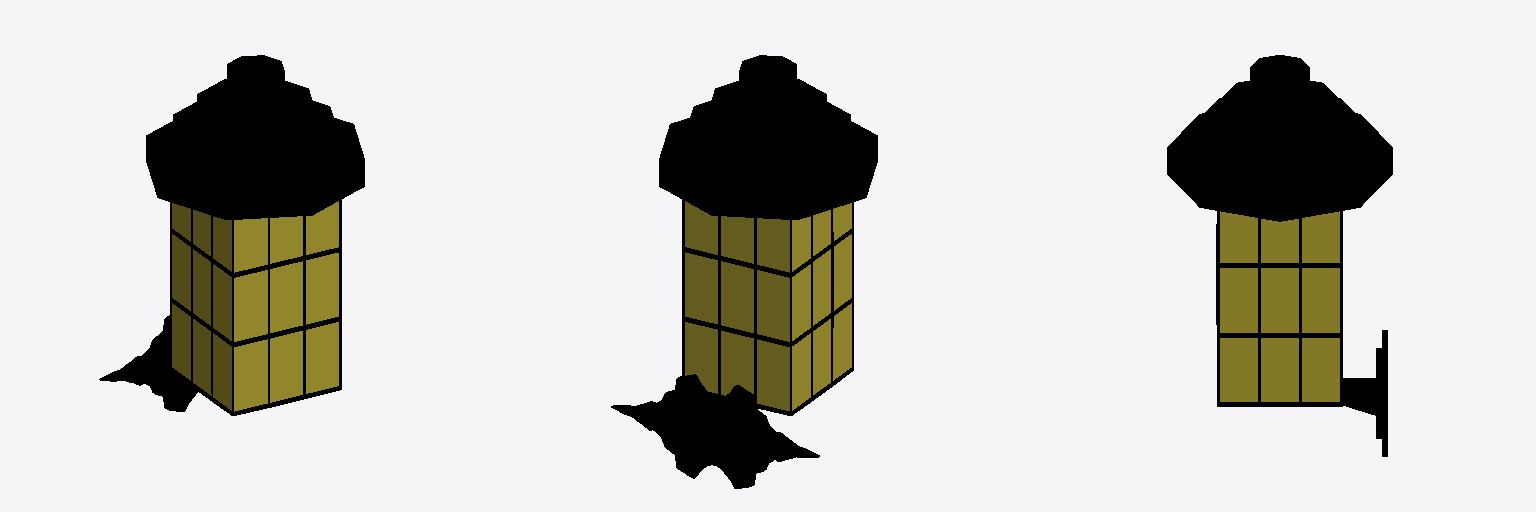
File: faro.obj
3 renders of one model, left to right at view 1: azimuth 30°, elevation 25°; view 2: azimuth 150°, elevation 25°; view 3: azimuth 270°, elevation 25°, orthographic.
Visible parts, largest first — view 1: Cube.006_Cube.009, Cube.003_Cube.006, Cube.002_Cube.005, Cube.004_Cube.007; view 2: Cube.006_Cube.009, Cube.003_Cube.006, Cube.004_Cube.007, Cube.002_Cube.005; view 3: Cube.003_Cube.006, Cube.006_Cube.009, Cube.002_Cube.005, Cube.004_Cube.007, Cube.005_Cube.008.
Part boxes in pixels (x1,y1,x2,y2): Cube.006_Cube.009: (172,201,338,411); Cube.003_Cube.006: (146,55,364,219); Cube.002_Cube.005: (170,200,341,415); Cube.004_Cube.007: (99,315,197,411); Cube.006_Cube.009: (685,201,851,410); Cube.003_Cube.006: (659,55,877,219); Cube.004_Cube.007: (611,374,819,488); Cube.002_Cube.005: (682,200,853,415); Cube.003_Cube.006: (1167,55,1392,221); Cube.006_Cube.009: (1220,211,1339,401); Cube.002_Cube.005: (1216,211,1342,406); Cube.004_Cube.007: (1376,330,1387,456); Cube.005_Cube.008: (1343,378,1375,415).
Bounding box in the file's own units: 16.58 × 28.8 × 15.7.